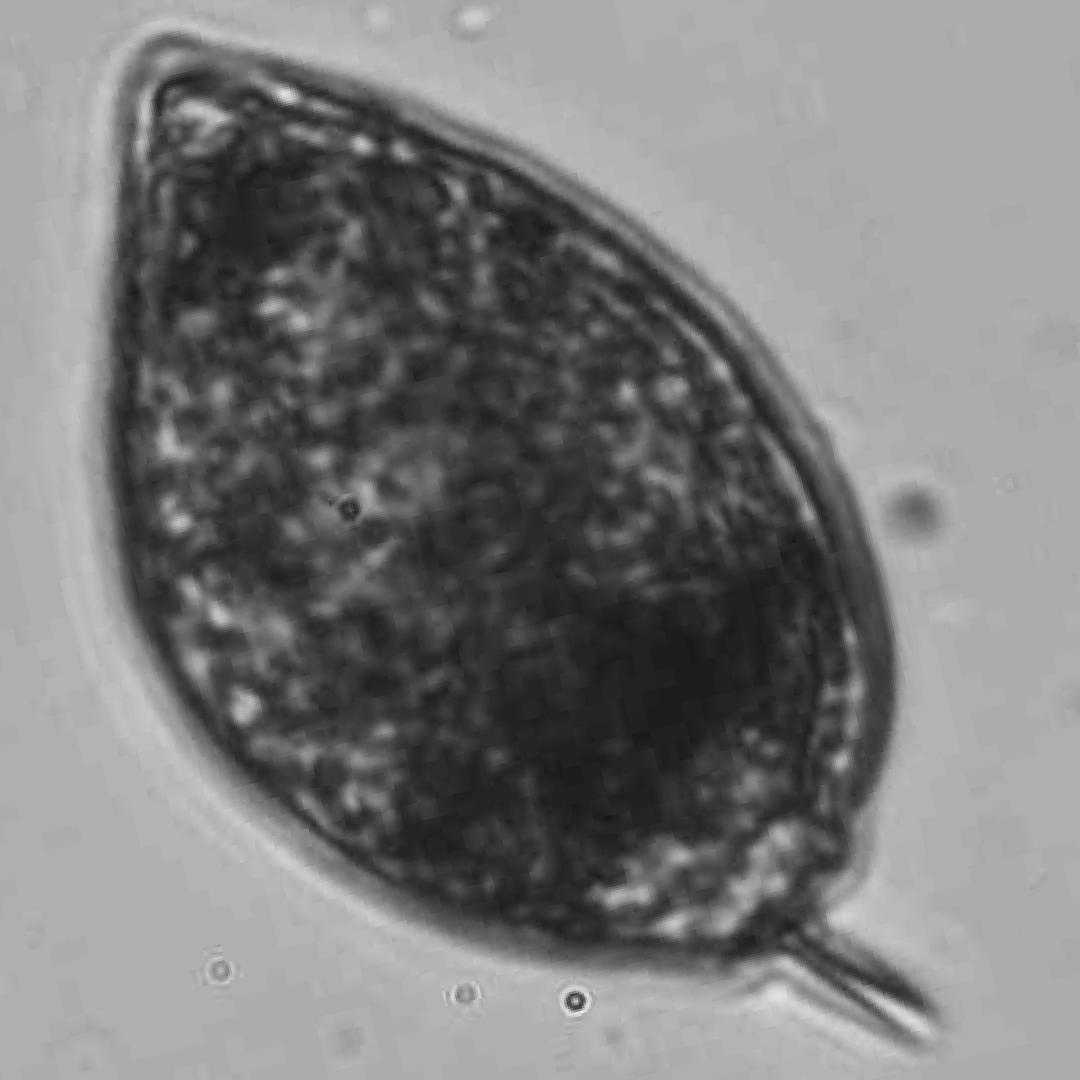prorocentrum_micans: (109, 40, 940, 1045)
